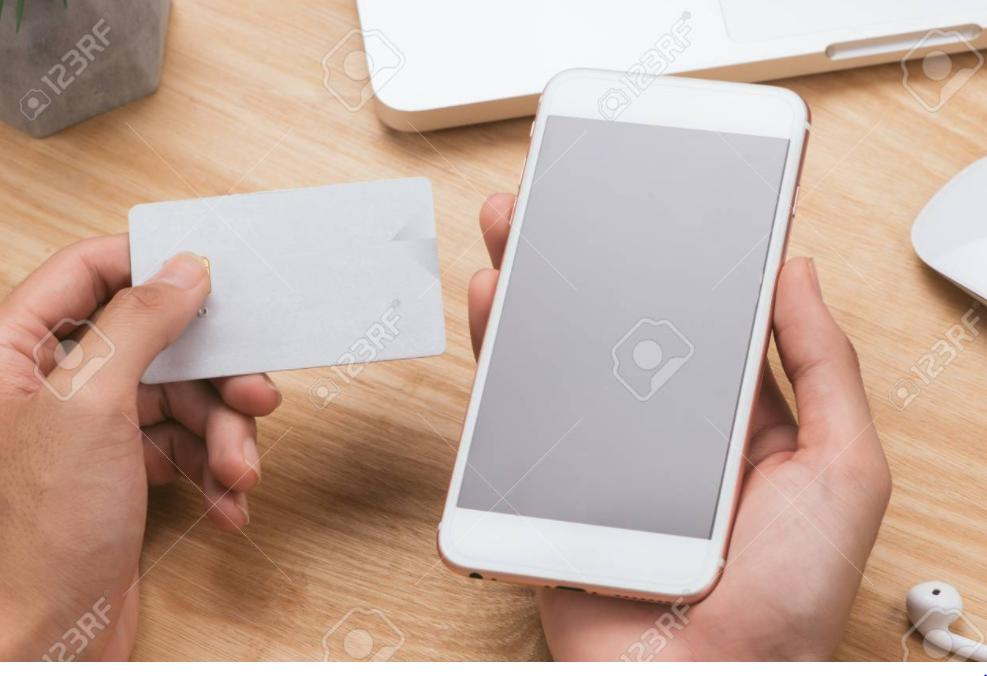mobile: (435, 70, 810, 607)
